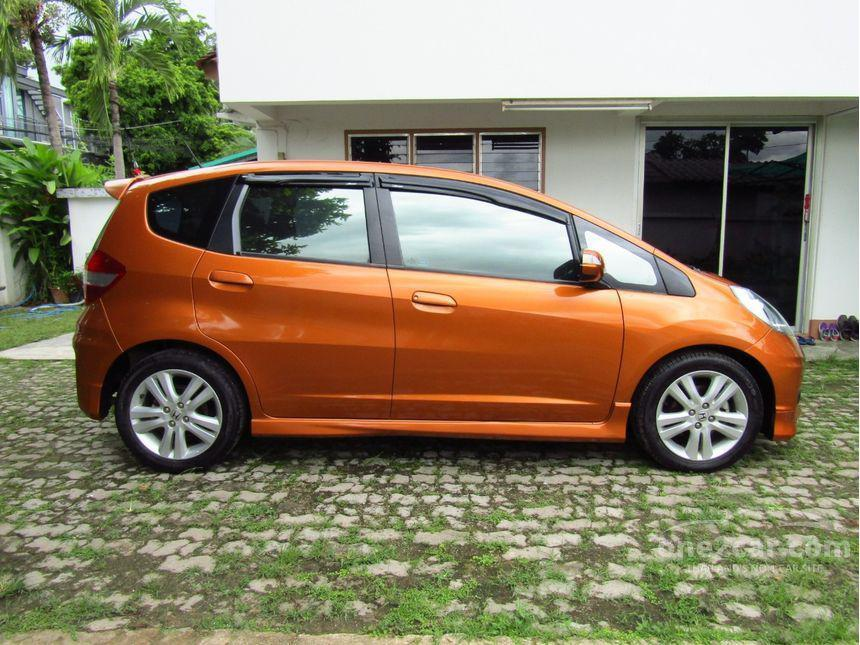Hatchback: (54, 142, 828, 492)
